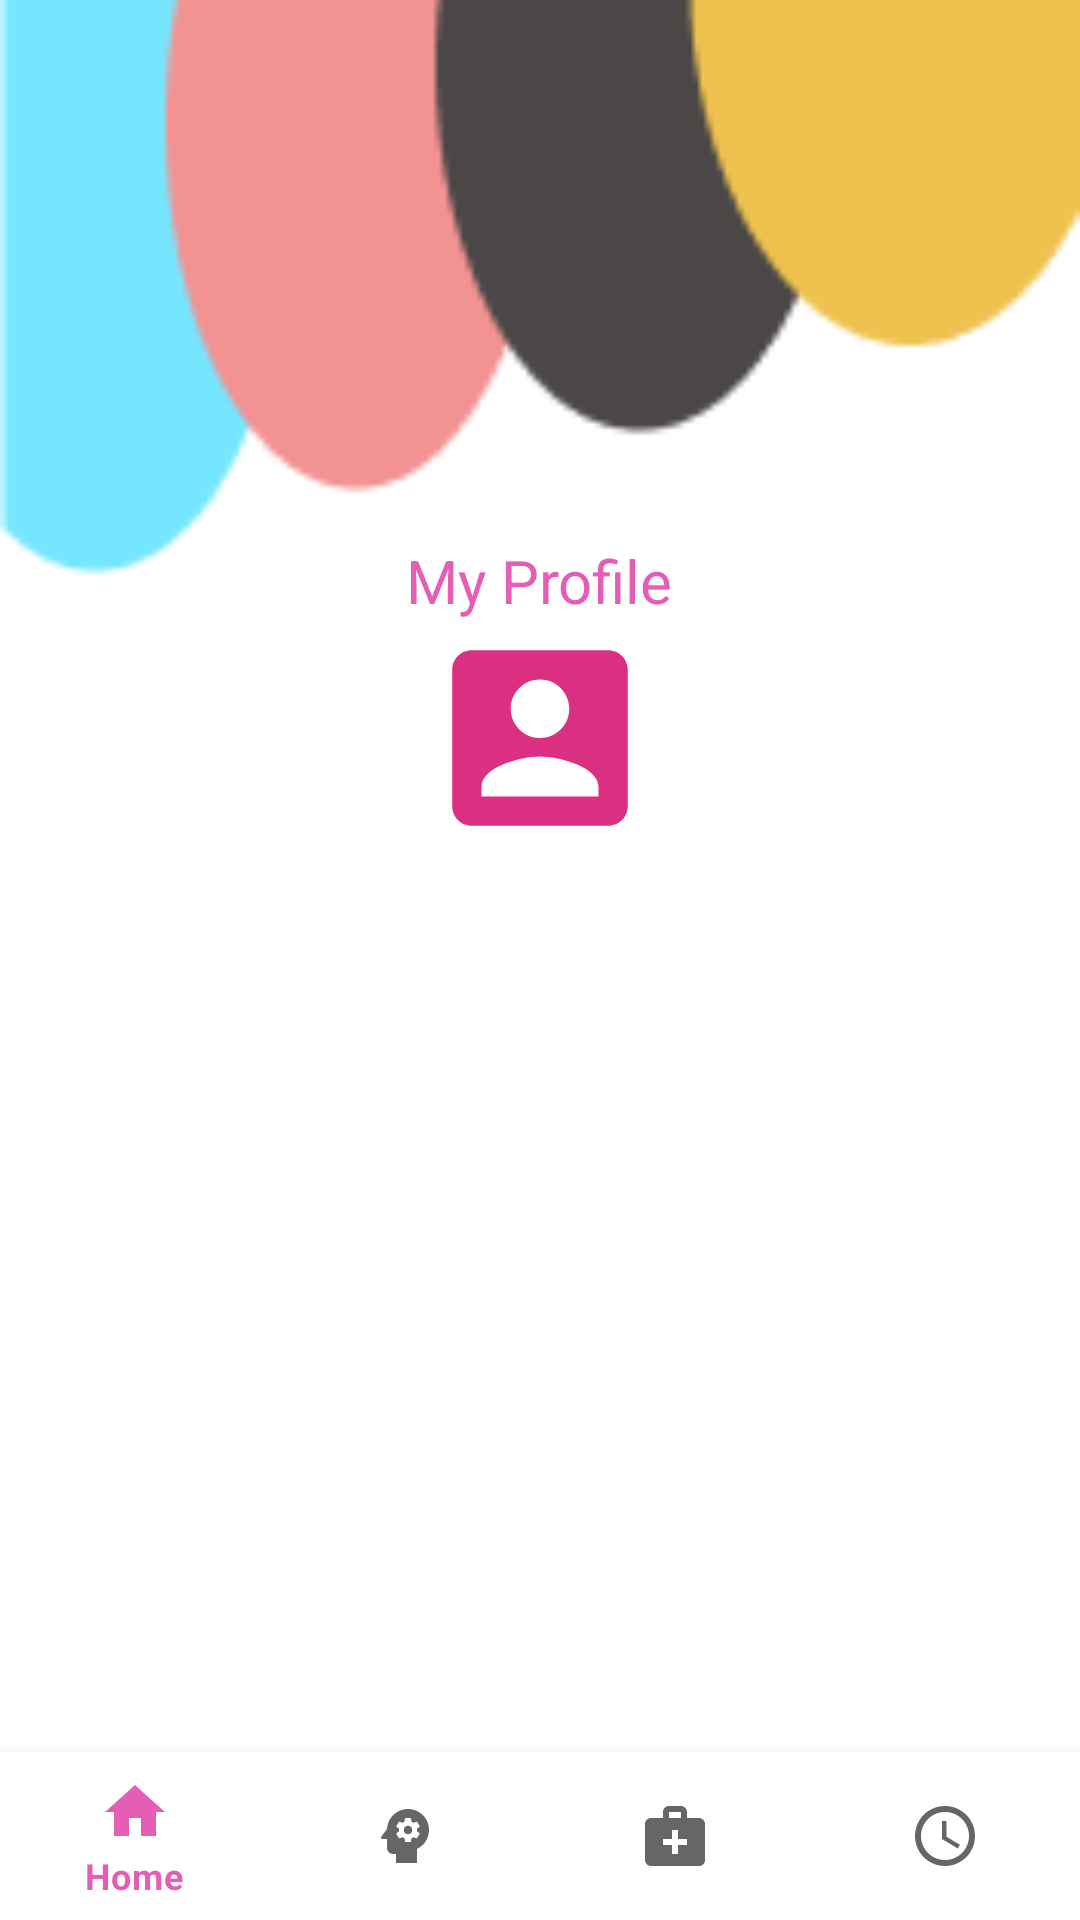

Icon bounding boxes for this 1080 × 1920 phone screenshot, format box(x1, y1, x2, y2):
account box: box(452, 650, 628, 826)
